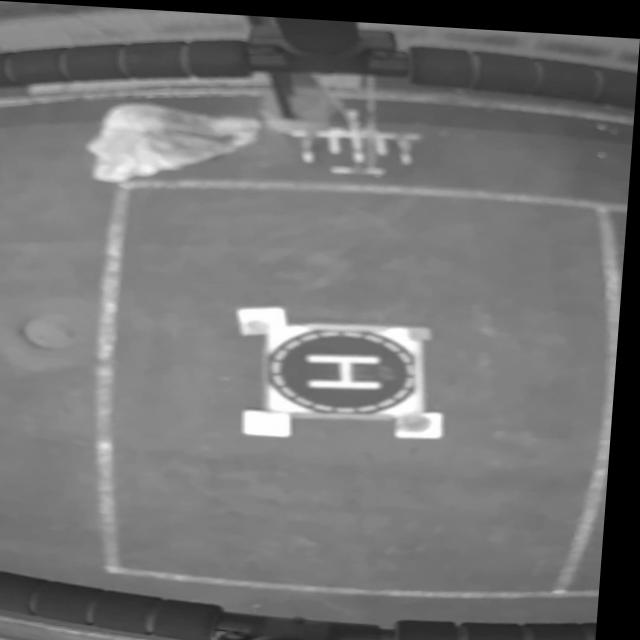Helipad: (315, 349, 385, 383)
